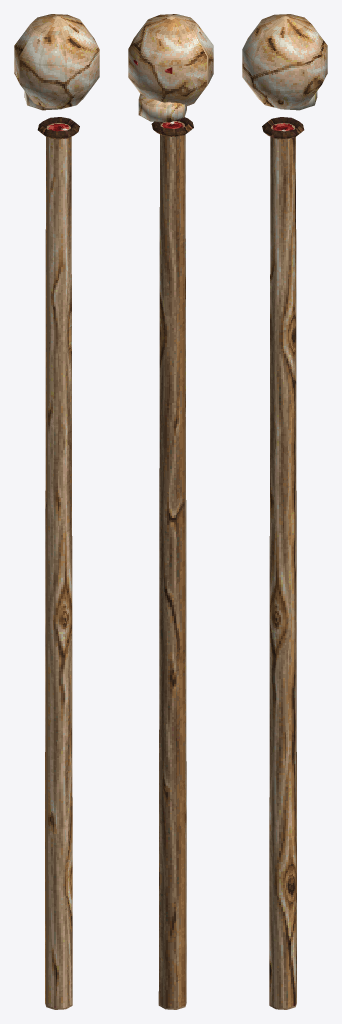
File: skull_staff.glb
3 views of the same model, side by side, from view 1: azimuth 30°, elevation 25°; view 2: azimuth 150°, elevation 25°; view 3: azimuth 330°, elevation 25° (orthographic).
Visible parts, largest first — view 1: skull_staff; view 2: skull_staff; view 3: skull_staff.
Boxes of the visible parts, x1,y1,x2,y2 form: skull_staff: [14, 14, 99, 1009]; skull_staff: [128, 14, 213, 1009]; skull_staff: [242, 14, 327, 1009].
Size of the model in its own units: 0.0951 by 1.21 by 0.0909.
Materials: 1 (1 with a texture image).
